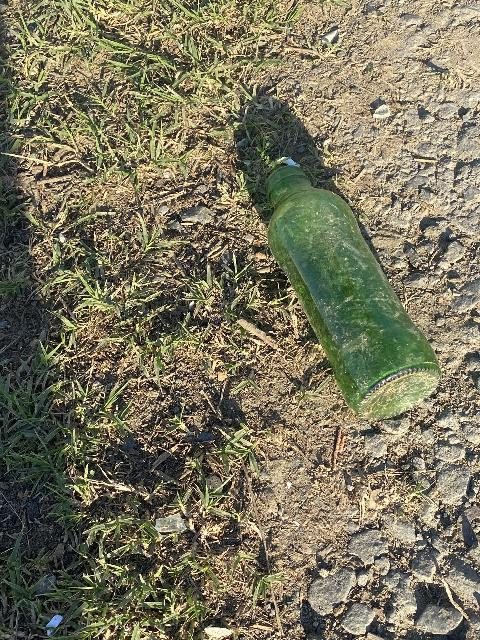Cam: (231, 162, 442, 417)
